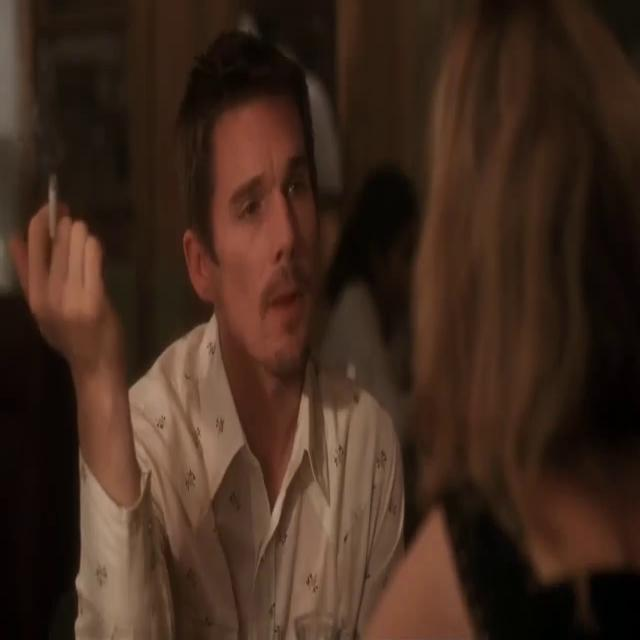Smooking: (43, 159, 66, 239)
